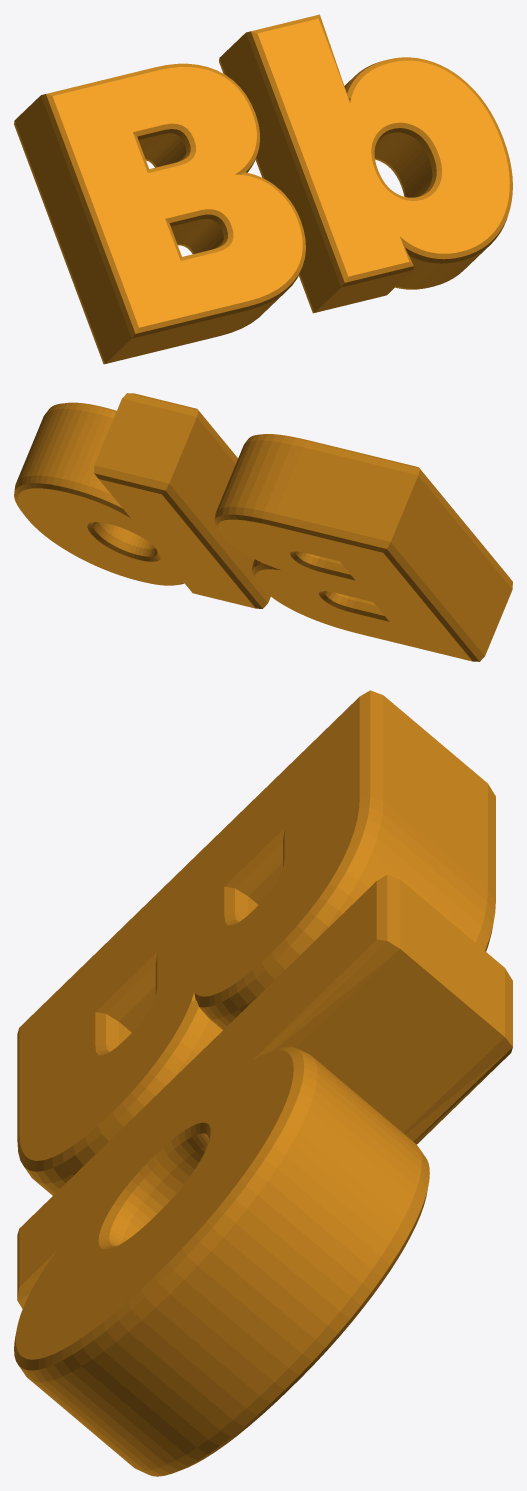
The picture shows the model from 3 angles, top to bottom: view 1: azimuth 30°, elevation 25°; view 2: azimuth 150°, elevation 25°; view 3: azimuth 270°, elevation 25°; orthographic projection. The views are drawn at different scales.
Parts seen in each view (by area): view 1: letter; view 2: letter; view 3: letter.
Boxes of the visible parts, <box> form: letter: <box>14,14,512,364</box>; letter: <box>14,393,512,661</box>; letter: <box>14,690,512,1476</box>.
Size of the model in its own units: 1.81 by 1.01 by 0.9779.
